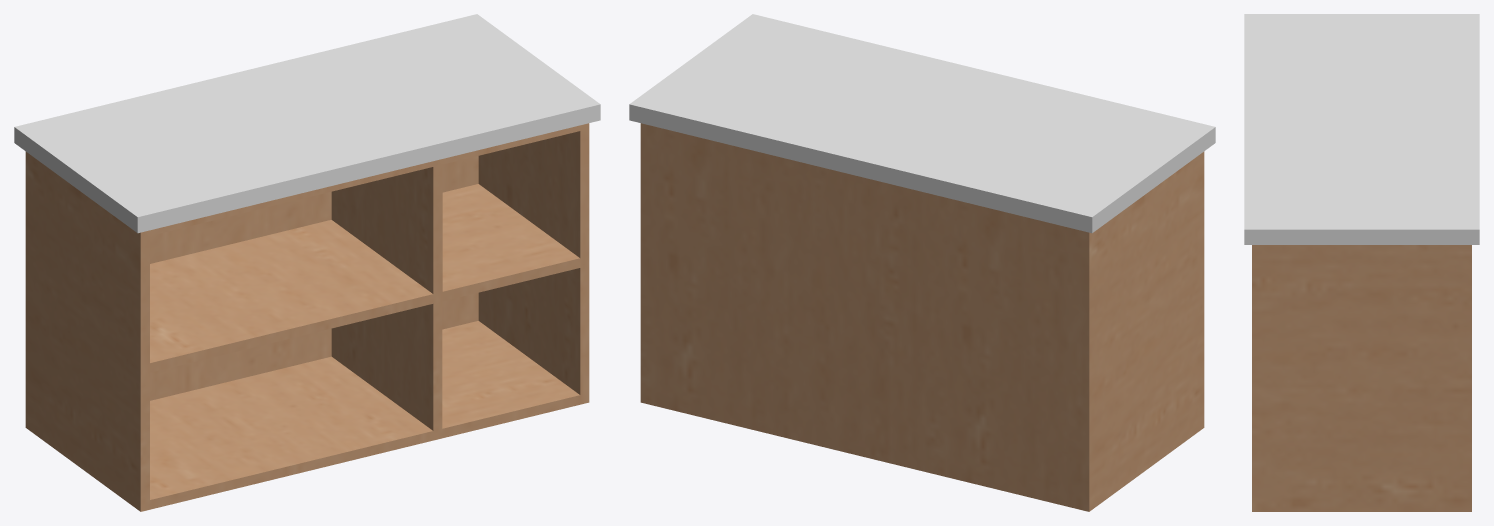
Rendered from vanity_modern_06.glb.
The picture shows the model from 3 angles, left to right: view 1: azimuth 30°, elevation 25°; view 2: azimuth 150°, elevation 25°; view 3: azimuth 270°, elevation 25°; orthographic projection. The views are drawn at different scales.
Visible parts, largest first — view 1: BathroomVanity06; view 2: BathroomVanity06; view 3: BathroomVanity06.
Boxes of the visible parts, x1=… form: BathroomVanity06: x1=14, y1=14, x2=600, y2=511; BathroomVanity06: x1=629, y1=14, x2=1215, y2=511; BathroomVanity06: x1=1244, y1=14, x2=1479, y2=511.
Size of the model in its own units: 1.51 by 0.9314 by 0.6959.
1 material, 1 textured.
